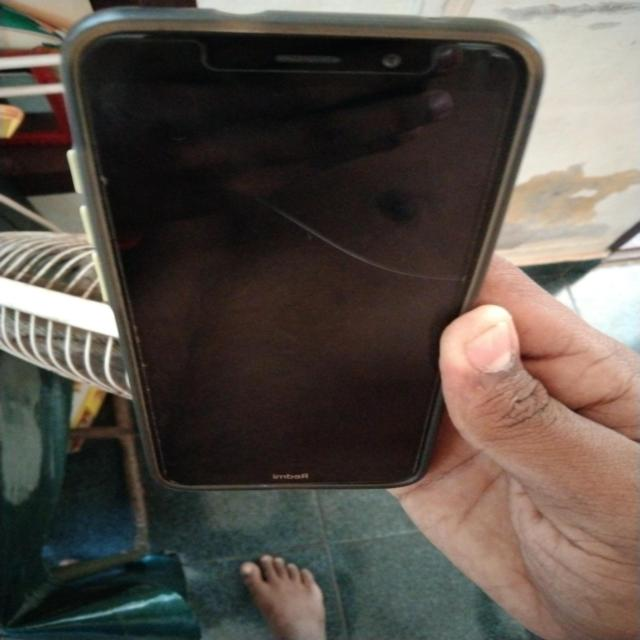mobile: (28, 12, 593, 545)
